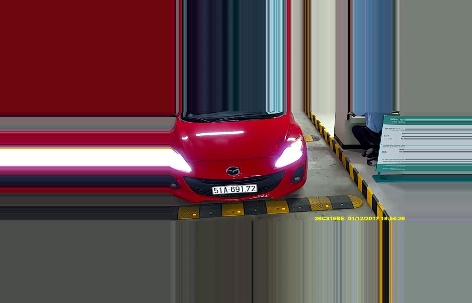plate: (208, 181, 260, 194)
